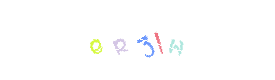E: (56, 0, 136, 80)
L: (106, 0, 186, 80)
R: (97, 0, 177, 80)
W: (118, 0, 198, 80)
Z: (106, 0, 186, 80)
